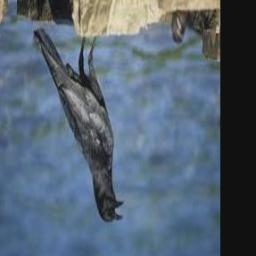Crow: (33, 27, 123, 223)
